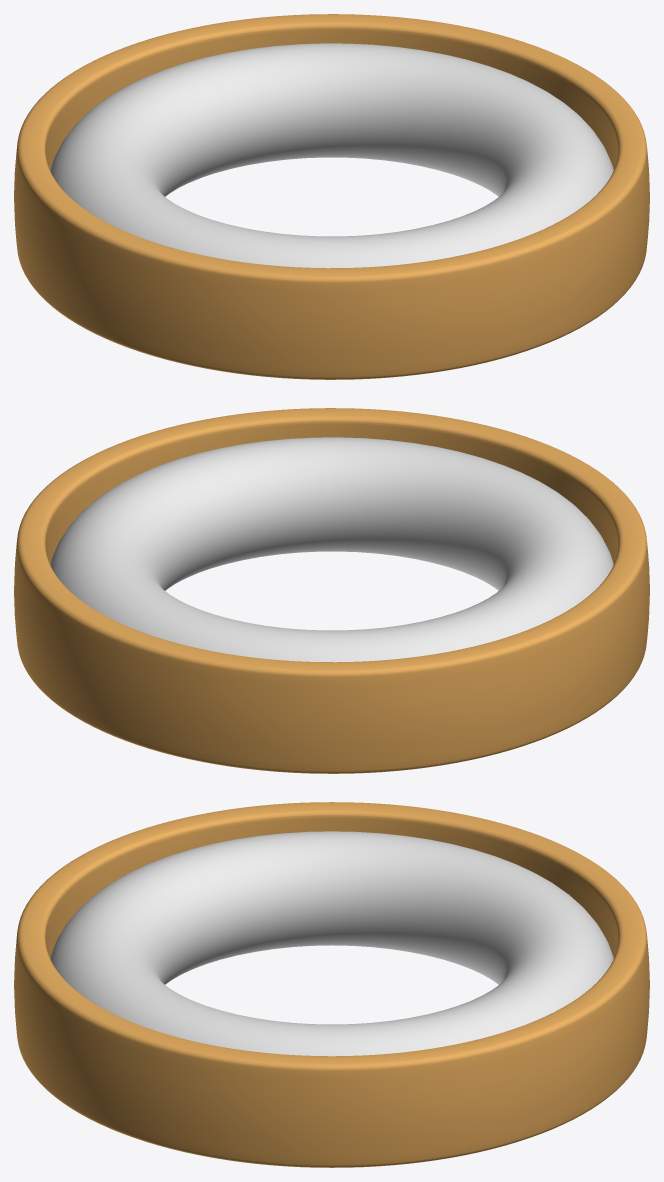
Rendered from glass-rings.glb.
The picture shows the model from 3 angles, top to bottom: view 1: azimuth 30°, elevation 25°; view 2: azimuth 150°, elevation 25°; view 3: azimuth 270°, elevation 25°; orthographic projection.
Visible parts, largest first — view 1: Cylinder, Torus; view 2: Cylinder, Torus; view 3: Cylinder, Torus.
Part boxes in pixels (<box>): Cylinder: <box>14,14,649,379</box>; Torus: <box>50,43,613,268</box>; Cylinder: <box>14,408,649,773</box>; Torus: <box>50,437,613,662</box>; Cylinder: <box>14,802,649,1167</box>; Torus: <box>50,831,613,1056</box>.
Bounding box in the file's own units: 2.78 × 0.505 × 2.78.
